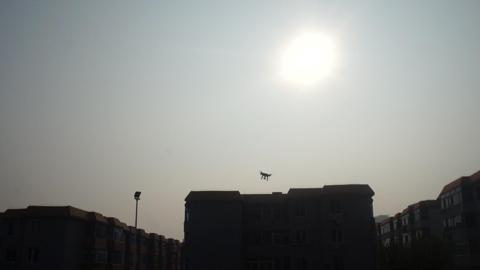UAV: (258, 171, 273, 181)
